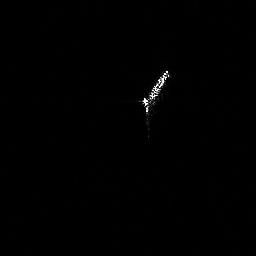ship: (135, 66, 174, 120)
